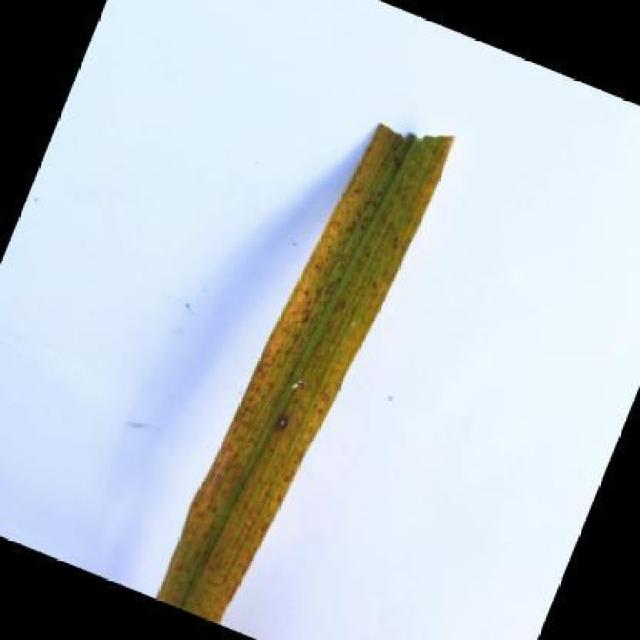Rice False Smut: (153, 95, 450, 634)
